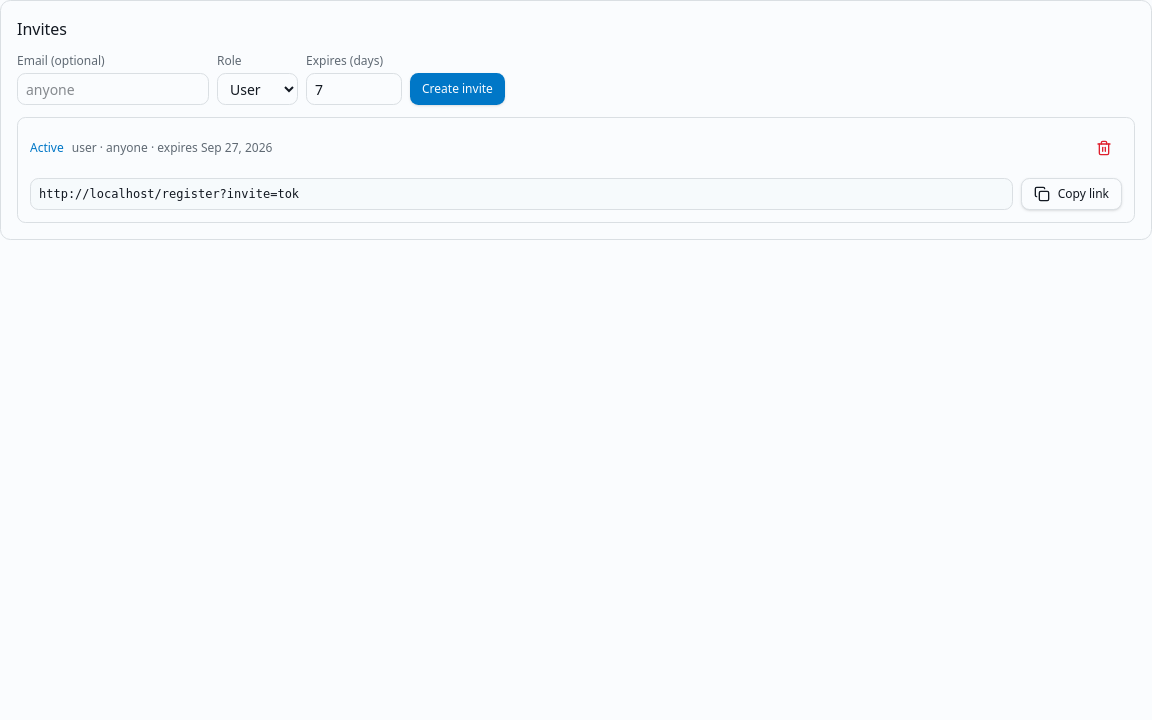
Test: a failed revoke shows an error toast
The width and height of the screenshot is (1152, 720).
Click the button named "Revoke invite": (1104, 148) [1086,130,1122,166]
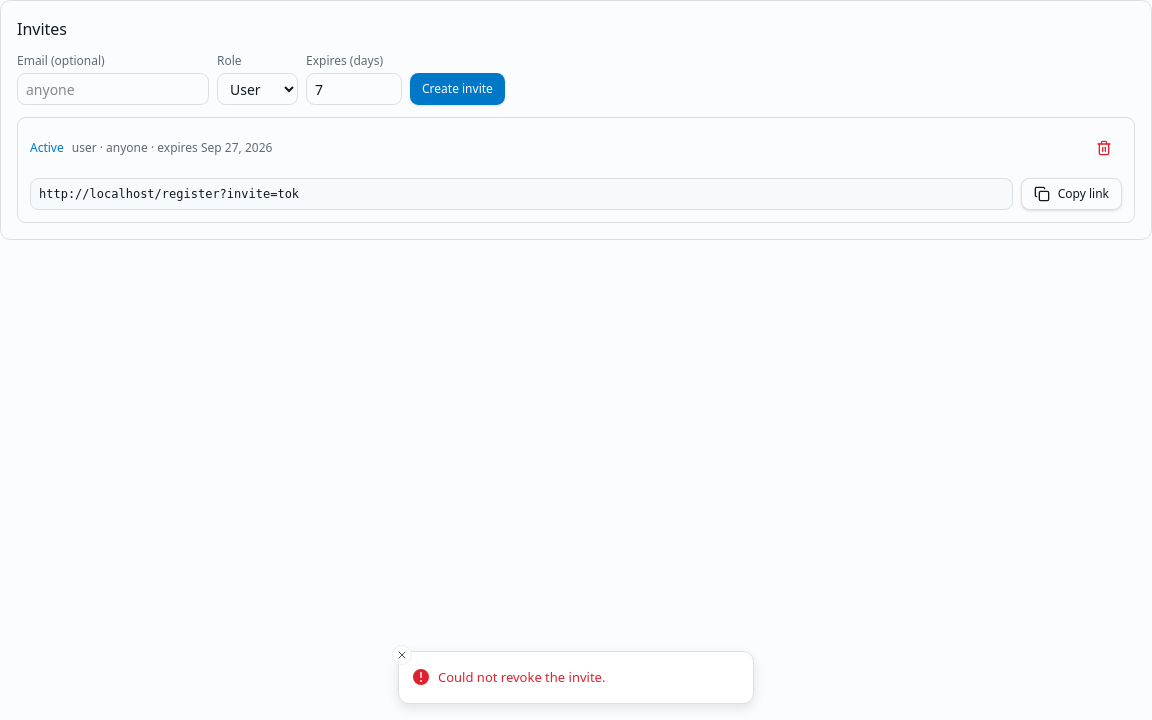
expect the text "Could not revoke the invite." is shown: met, box [438,668,605,687]
